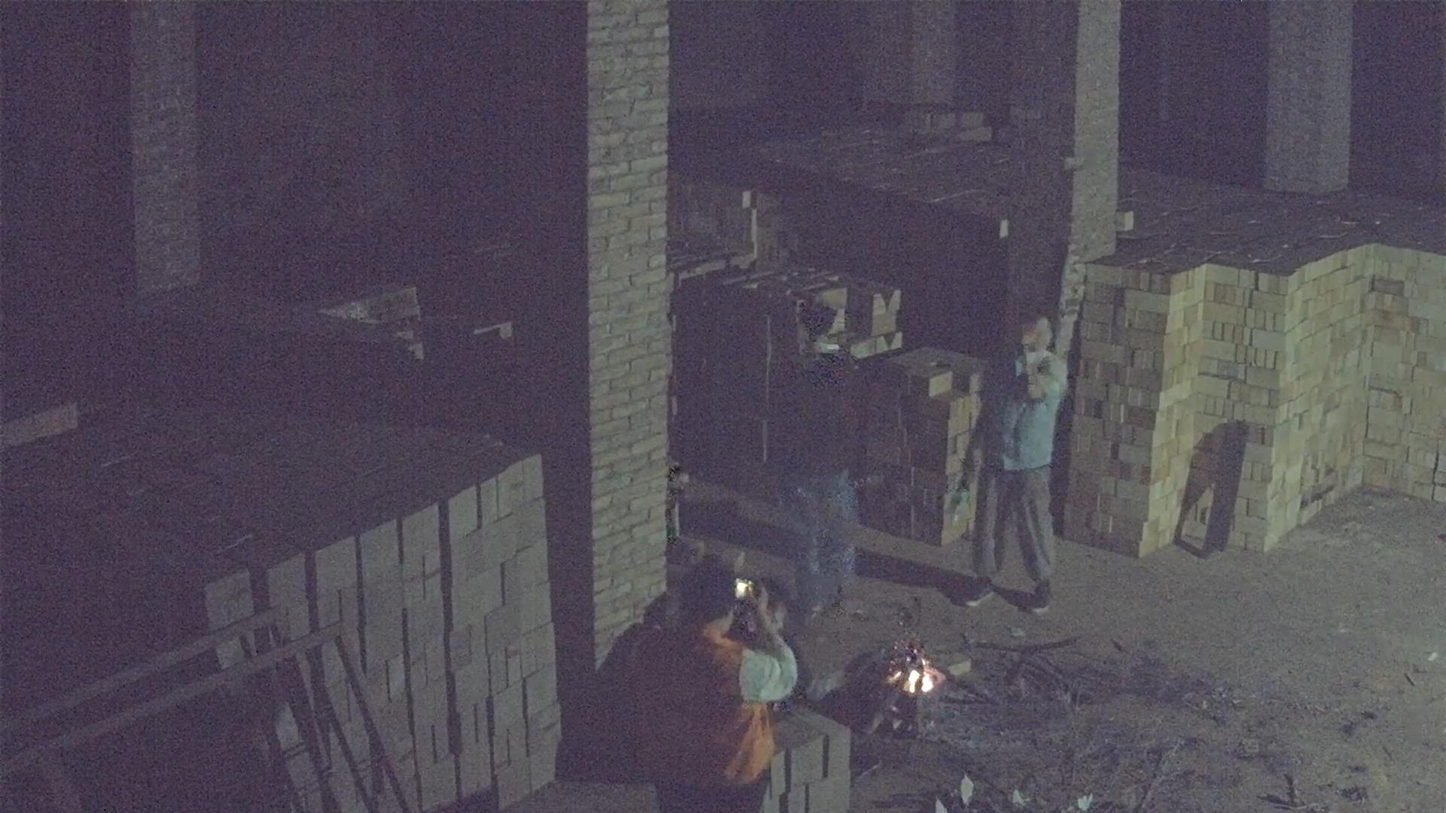fire: (882, 642, 943, 695)
